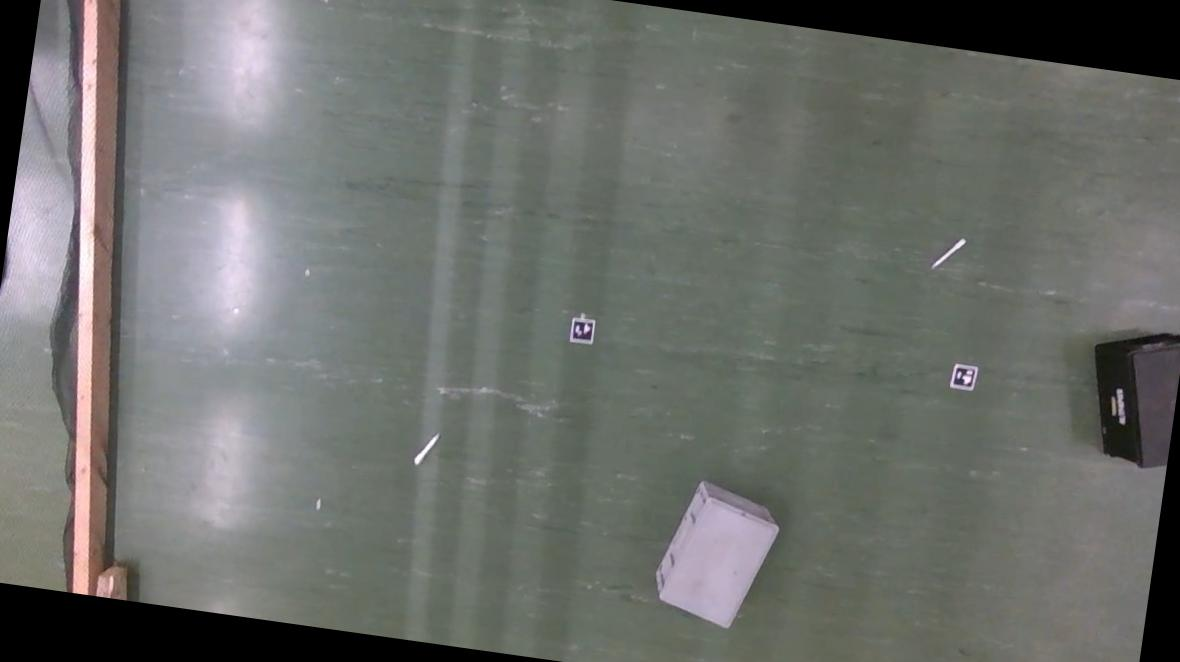probes: (932, 232, 965, 270), (415, 428, 439, 464)
rako: (648, 472, 783, 631), (1080, 321, 1180, 469)
